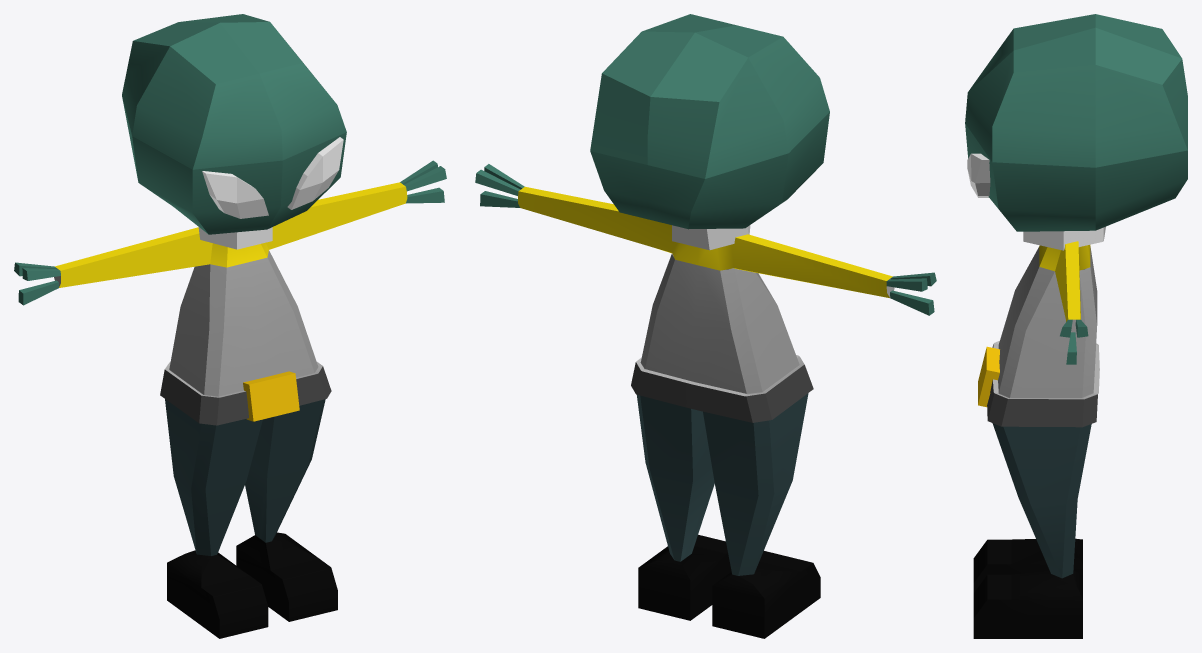
The model's file is alienModelPls.fbx.
3 renders of one model, left to right at view 1: azimuth 30°, elevation 25°; view 2: azimuth 150°, elevation 25°; view 3: azimuth 270°, elevation 25°, orthographic. The views are drawn at different scales.
Visible parts, largest first — view 1: pCube6; view 2: pCube6; view 3: pCube6.
Boxes of the visible parts, x1=… form: pCube6: x1=14, y1=14, x2=446, y2=638; pCube6: x1=475, y1=14, x2=936, y2=638; pCube6: x1=965, y1=14, x2=1187, y2=638.
Bounding box in the file's own units: 6.5 × 8.24 × 2.86.
